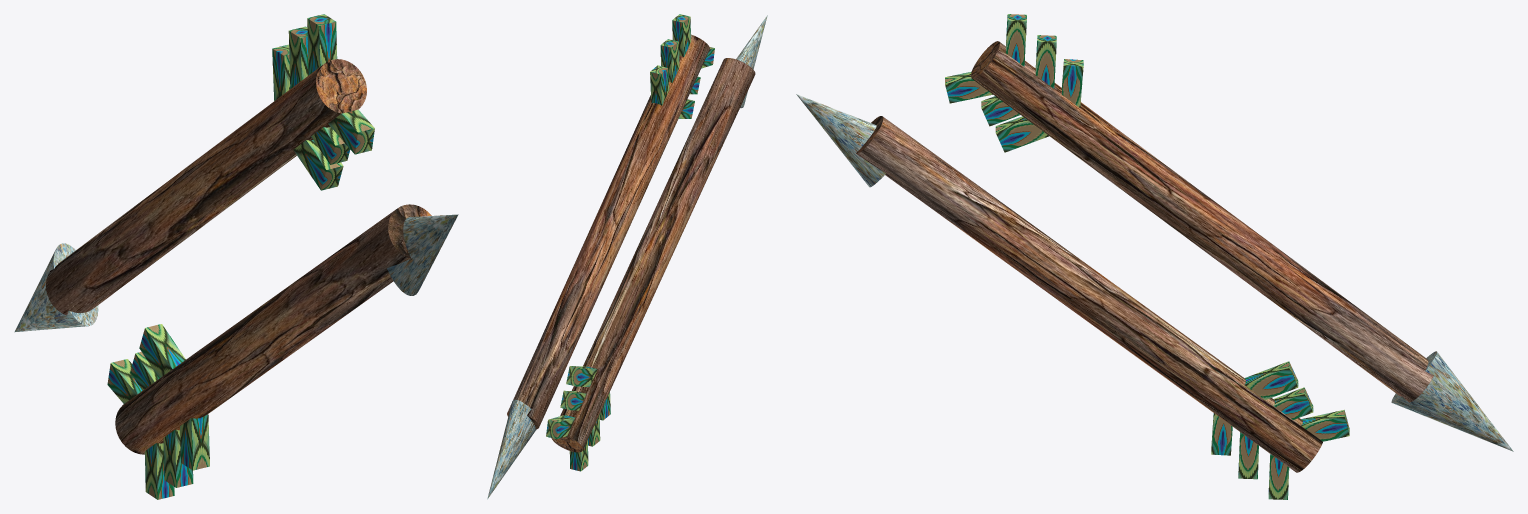
Rendered from lanzas.obj.
3 renders of one model, left to right at view 1: azimuth 30°, elevation 25°; view 2: azimuth 150°, elevation 25°; view 3: azimuth 270°, elevation 25°, orthographic. The views are drawn at different scales.
Parts seen in each view (by area): view 1: Cylinder.002, Cylinder.001, Cone, Cone.001, Cube.009, Cube.015, Cube.011, Cube.016, Cube.020, Cube.012, Cube.014, Cube.017 (+4 smaller); view 2: Cylinder.001, Cylinder.002, Cone.001, Cube.018, Cube.017, Cube.015, Cone, Cube.009, Cube.013, Cube.010, Cube.014; view 3: Cylinder.002, Cylinder.001, Cone.001, Cone, Cube.009, Cube.020, Cube.013, Cube.017, Cube.016, Cube.015, Cube.018, Cube.010 (+2 smaller).
Boxes of the visible parts, box(x1,y1,x2,y2) form: Cylinder.002: box(46, 59, 366, 315); Cylinder.001: box(115, 204, 431, 454); Cone: box(387, 214, 458, 295); Cone.001: box(14, 243, 98, 332); Cube.009: box(139, 324, 185, 378); Cube.015: box(307, 14, 337, 74); Cube.011: box(180, 414, 209, 470); Cube.016: box(328, 109, 374, 154); Cube.020: box(293, 140, 343, 190); Cube.012: box(163, 429, 193, 487); Cube.014: box(145, 443, 174, 499); Cube.017: box(288, 26, 308, 88); Cylinder.001: box(551, 58, 755, 452); Cylinder.002: box(507, 34, 709, 429); Cone.001: box(487, 399, 536, 499); Cube.018: box(650, 65, 669, 105); Cube.017: box(660, 39, 679, 82); Cube.015: box(672, 14, 691, 57); Cone: box(736, 15, 767, 108); Cube.009: box(566, 366, 597, 386); Cube.013: box(546, 415, 575, 439); Cube.010: box(560, 390, 586, 410); Cube.014: box(569, 440, 588, 471); Cylinder.002: box(971, 41, 1433, 402); Cylinder.001: box(856, 116, 1322, 472); Cone.001: box(1391, 351, 1513, 451); Cone: box(796, 94, 885, 187); Cube.009: box(1244, 361, 1298, 399); Cube.020: box(995, 116, 1048, 152); Cube.013: box(1301, 409, 1349, 441); Cube.017: box(1035, 35, 1056, 88); Cube.016: box(945, 72, 992, 103); Cube.015: box(1006, 14, 1026, 66); Cube.018: box(1061, 59, 1083, 107); Cube.010: box(1273, 387, 1313, 419).
Bounding box in the file's own units: 0.2006 × 2.38 × 3.23.
16 materials, 16 textured.
